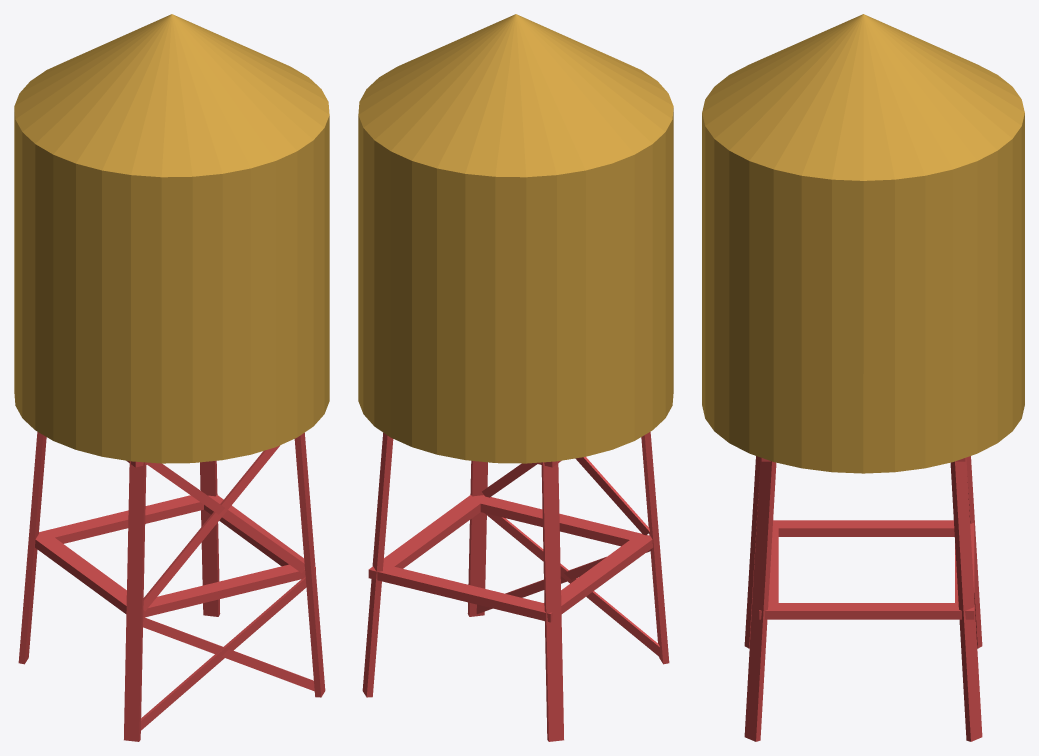
Rendered from Water_tank.fbx.
3 views of the same model, side by side, from view 1: azimuth 30°, elevation 25°; view 2: azimuth 150°, elevation 25°; view 3: azimuth 270°, elevation 25° (orthographic). The views are drawn at different scales.
Visible parts, largest first — view 1: Cylinder; view 2: Cylinder; view 3: Cylinder.
Part boxes in pixels (left/top/right/bottom): Cylinder: left=14, top=14, right=329, bottom=741; Cylinder: left=358, top=14, right=673, bottom=741; Cylinder: left=702, top=14, right=1024, bottom=741.
Size of the model in its own units: 1000 by 2318 by 1000.
